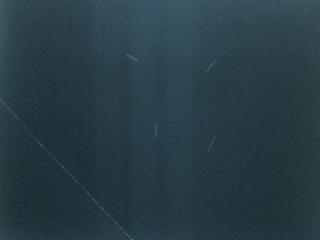crack: (0, 98, 132, 240)
scratch: (201, 130, 223, 157), (201, 55, 221, 77), (148, 120, 166, 142), (122, 48, 142, 65)
